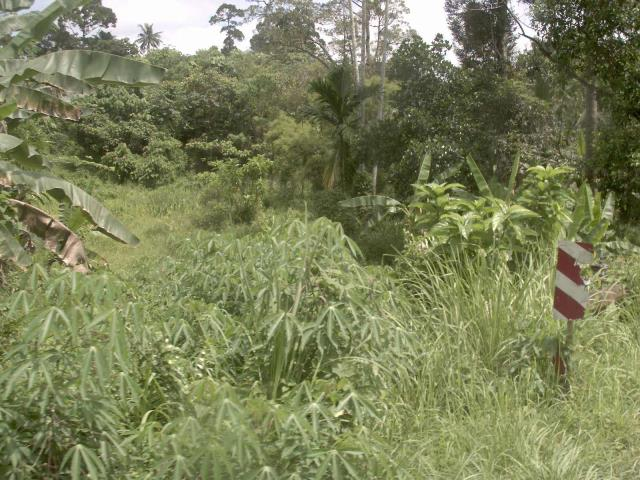traffic_sign: (543, 234, 598, 329)
